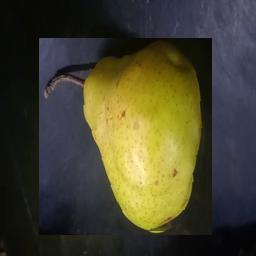Pear Semifresh: (39, 38, 212, 235)
